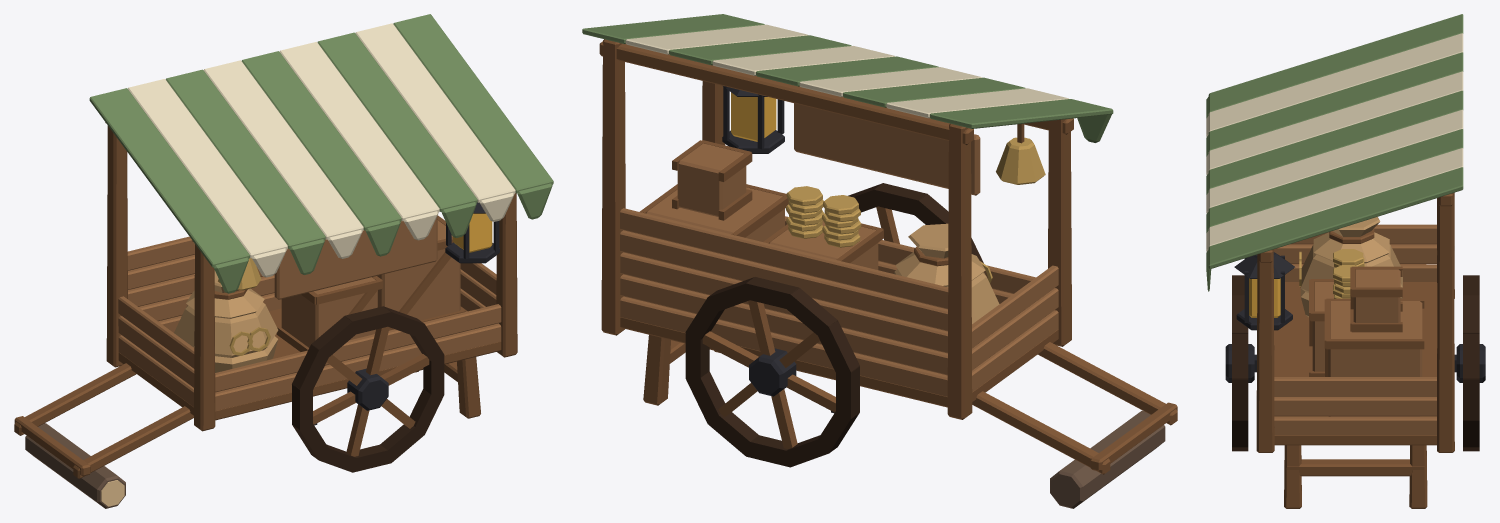
File: PeddlerCart.gltf
The picture shows the model from 3 angles, left to right: view 1: azimuth 30°, elevation 25°; view 2: azimuth 150°, elevation 25°; view 3: azimuth 270°, elevation 25°; orthographic projection. The views are drawn at different scales.
Visible parts, largest first — view 1: Canvas, CanvasLight, Board, Post, Rim, Crate, Sign, Shaft, Sack, Spoke, Deck, Trim (+5 smaller); view 2: Board, Post, Rim, Canvas, CanvasLight, Crate, Sign, Shaft, Spoke, Coin, Log, Sack (+7 smaller); view 3: Canvas, CanvasLight, Board, Post, Crate, Deck, Rim, Leg, Trim, Sack, Iron, Hub (+3 smaller).
Part boxes in pixels (x1,y1,x2,y2): Canvas: (89,14,553,293); CanvasLight: (128,23,515,277); Board: (118,236,501,410); Post: (105,122,517,431); Rim: (292,306,444,472); Crate: (281,220,460,347); Sign: (274,216,437,299); Shaft: (14,363,193,478); Sack: (174,270,278,372); Spoke: (313,326,429,456); Deck: (118,306,501,420); Trim: (276,215,465,351); Board: (620,208,1058,396); Post: (599,39,1073,419); Rim: (685,183,983,467); Canvas: (582,14,1113,142); CanvasLight: (625,24,1068,118); Crate: (646,143,878,269); Sign: (794,103,980,195); Shaft: (972,342,1177,474); Spoke: (702,206,899,449); Coin: (786,186,861,247); Log: (1050,410,1165,508); Sack: (893,223,999,323); Canvas: (1206,14,1463,291); CanvasLight: (1206,33,1463,251); Board: (1274,224,1436,435); Post: (1256,192,1454,452); Crate: (1312,269,1422,416); Deck: (1274,282,1437,445); Rim: (1232,275,1479,451); Leg: (1284,445,1427,508); Trim: (1309,266,1424,416); Sack: (1300,217,1402,317); Iron: (1234,252,1294,330); Hub: (1225,344,1485,382).
Size of the model in its own units: 13.3 by 9.63 by 7.14.
